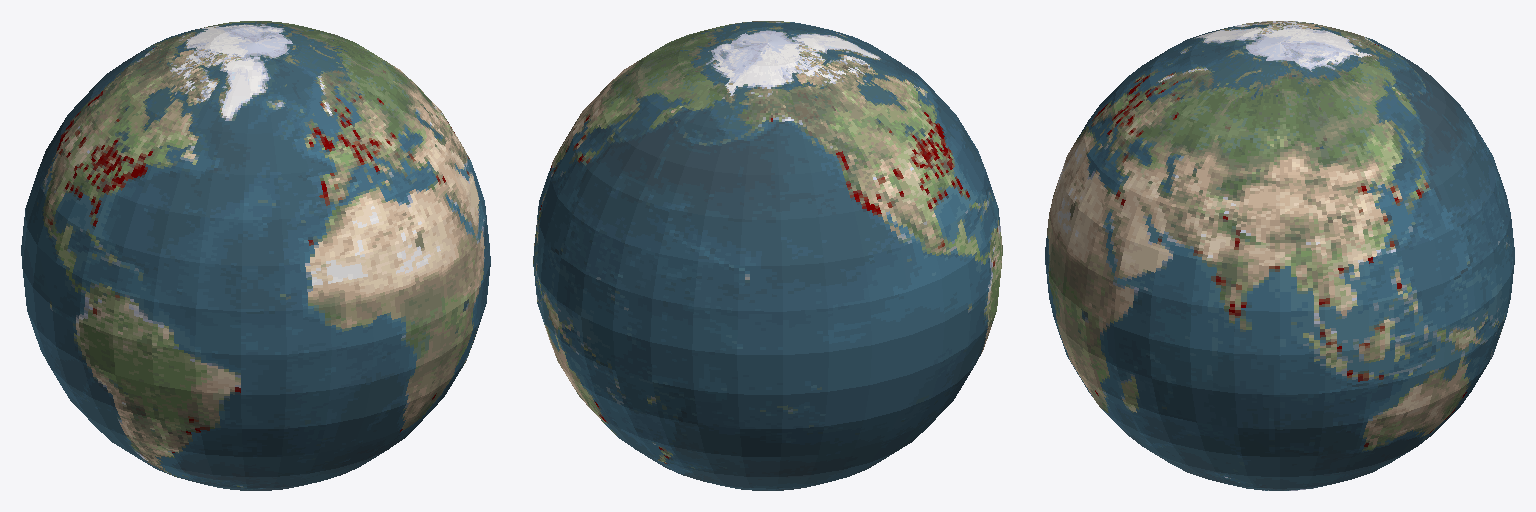
The picture shows the model from 3 angles: view 1: azimuth 30°, elevation 25°; view 2: azimuth 150°, elevation 25°; view 3: azimuth 270°, elevation 25°; orthographic projection.
Visible parts, largest first — view 1: Sphere001; view 2: Sphere001; view 3: Sphere001.
Boxes of the visible parts, x1=… form: Sphere001: x1=21, y1=21, x2=490, y2=490; Sphere001: x1=533, y1=21, x2=1002, y2=490; Sphere001: x1=1045, y1=21, x2=1514, y2=490.
Size of the model in its own units: 2 by 2 by 2.
Materials: 1 (1 with a texture image).